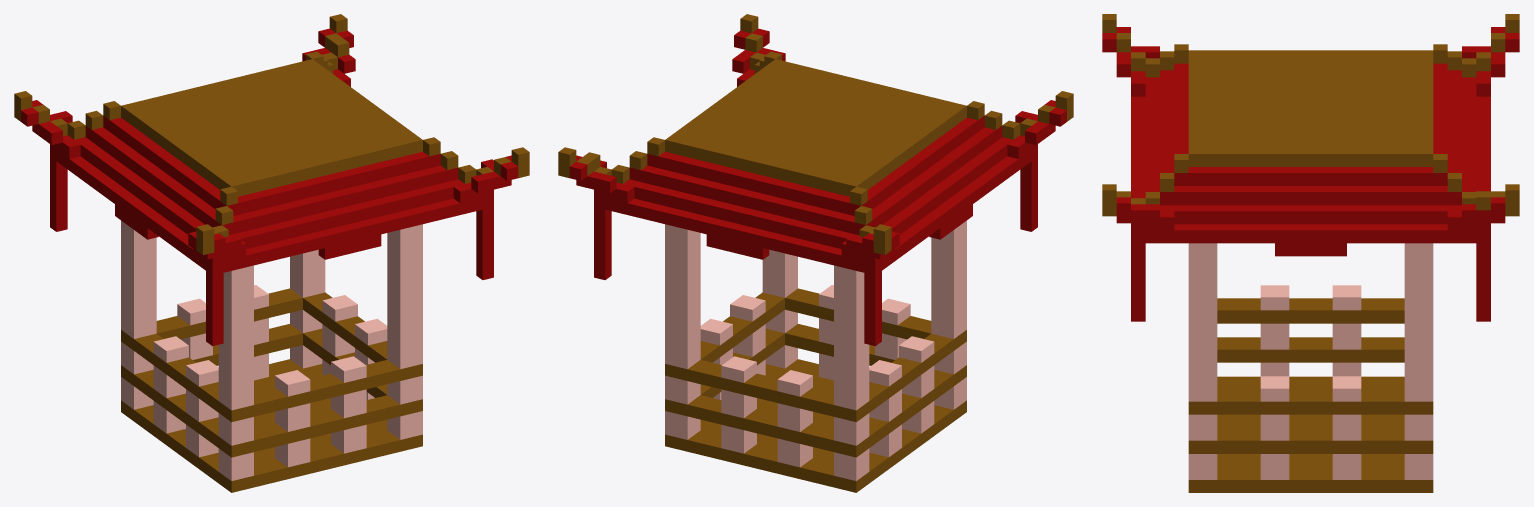
File: TwentyNineModel.fbx
The picture shows the model from 3 angles, left to right: view 1: azimuth 30°, elevation 25°; view 2: azimuth 150°, elevation 25°; view 3: azimuth 270°, elevation 25°; orthographic projection. The views are drawn at different scales.
Visible parts, largest first — view 1: Box; view 2: Box; view 3: Box.
Part boxes in pixels (x1,y1,x2,y2): Box: (14,14,529,492); Box: (558,14,1073,492); Box: (1102,14,1519,492).
Bounding box in the file's own units: 29 × 26 × 29.
Materials: 1 (1 with a texture image).
